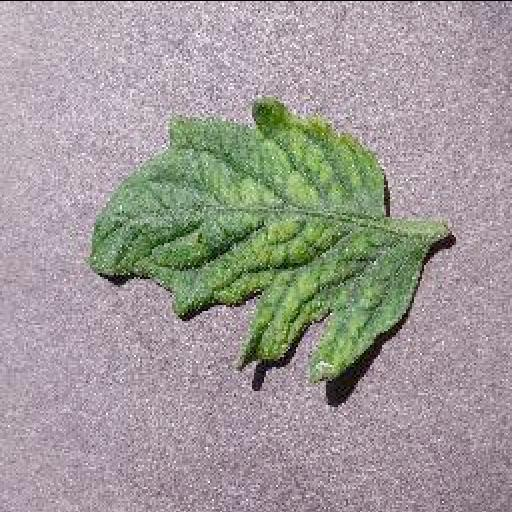disease_tomato: (82, 98, 428, 380)
